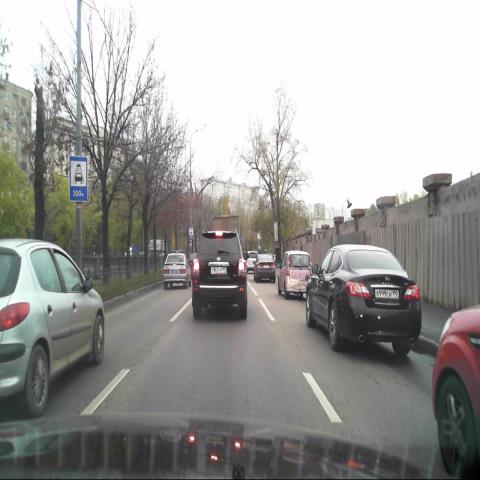7_5: (70, 157, 88, 201)
